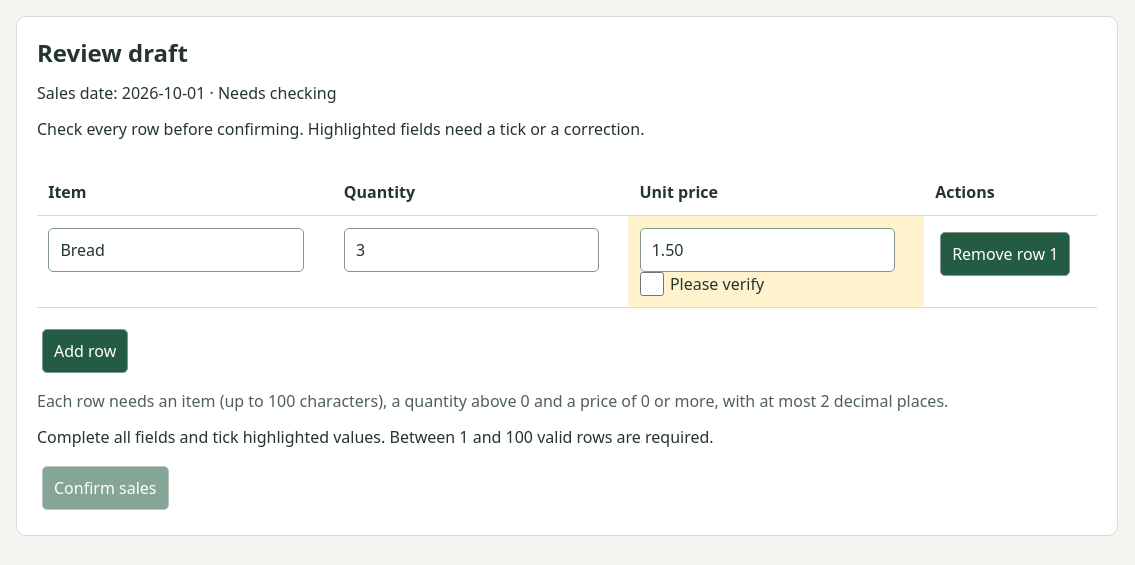
Scenario: Draft review › retains corrected values after a failure and allows retry
Replace the text in the 3rd field named "Row 1 Unit price" with "2.25" at (767, 250), box [640, 228, 895, 272]
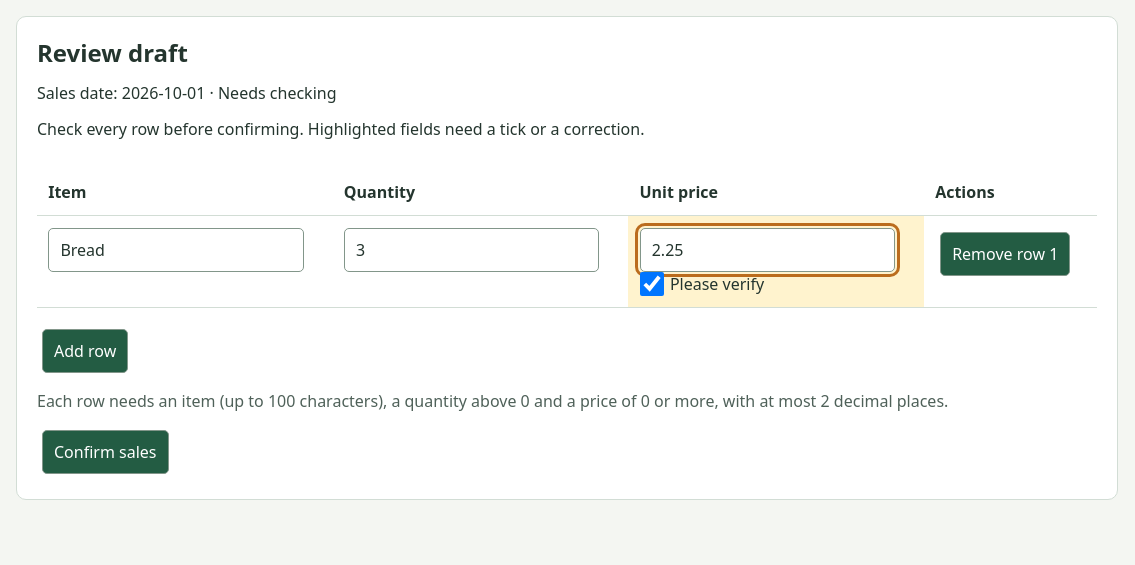
Click the button "Confirm sales" at (105, 452), box [42, 430, 169, 474]
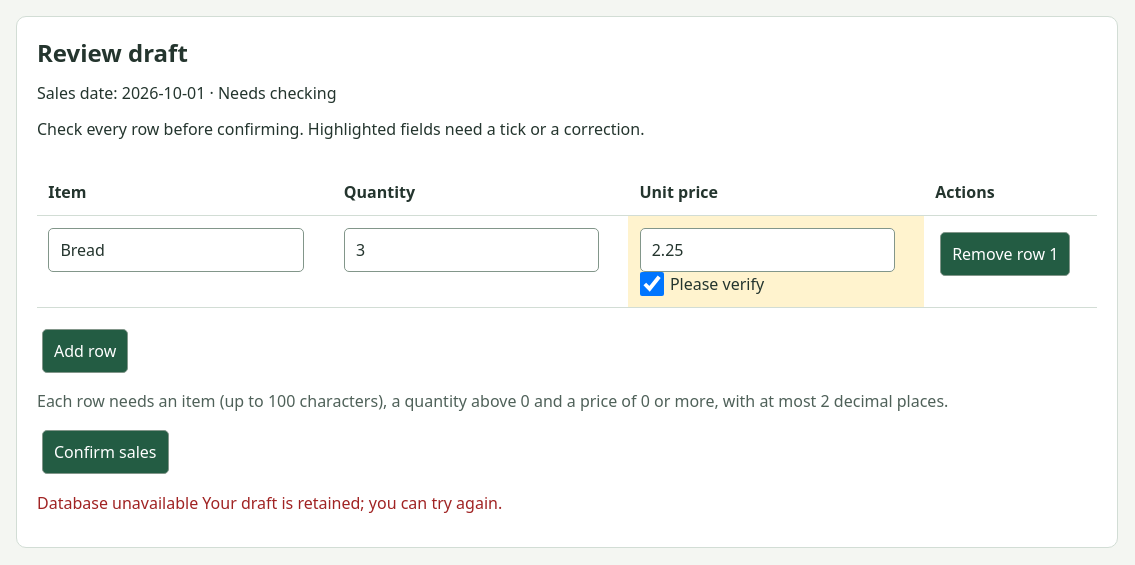
Check: the message shows "Database unavailable", box [37, 492, 198, 514]
Click the button "Confirm sales" at (105, 452), box [42, 430, 169, 474]
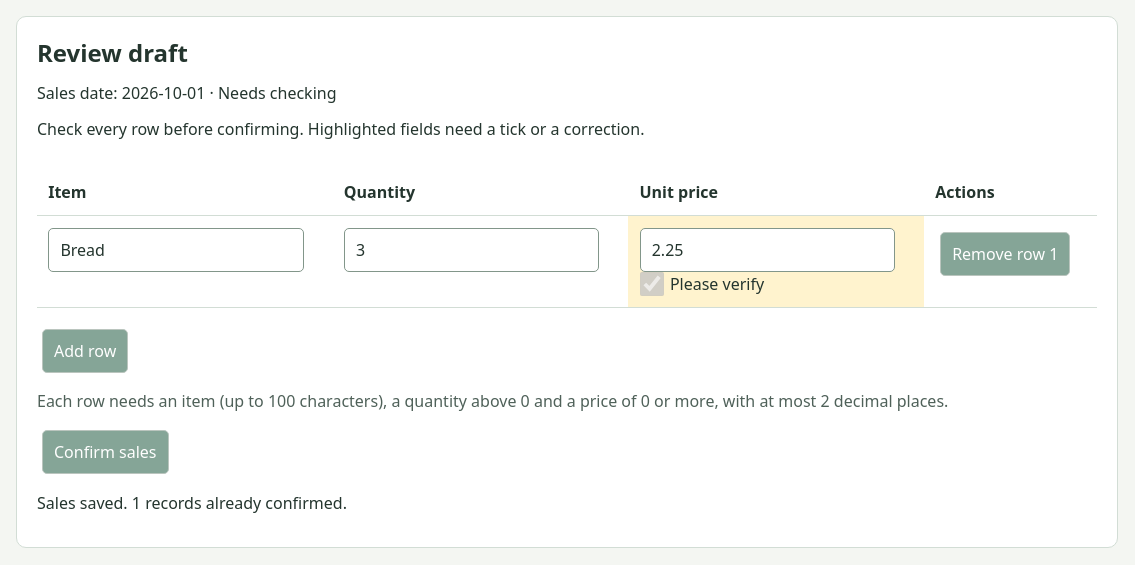
Check: the text "Sales saved. 1 records already confirmed." is shown, box [37, 492, 347, 514]
